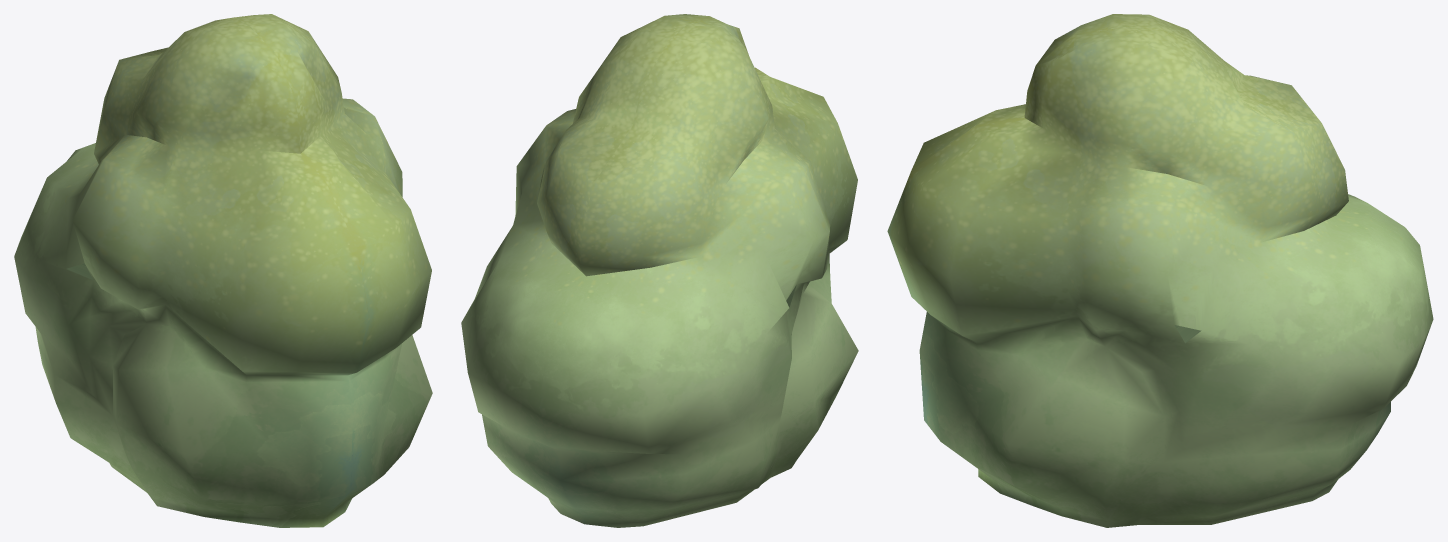
Rendered from ronck_3.fbx.
3 renders of one model, left to right at view 1: azimuth 30°, elevation 25°; view 2: azimuth 150°, elevation 25°; view 3: azimuth 270°, elevation 25°, orthographic. The views are drawn at different scales.
Visible parts, largest first — view 1: Sphere; view 2: Sphere; view 3: Sphere.
Part boxes in pixels (x1,y1,x2,y2): Sphere: (14,14,432,527); Sphere: (461,14,858,527); Sphere: (887,14,1433,527).
Bounding box in the file's own units: 85.33 × 116 × 128.
